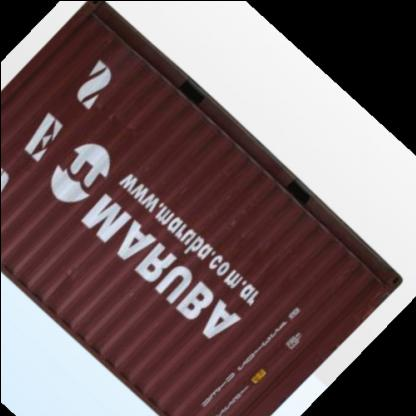Damage: (214, 206, 266, 262), (82, 96, 141, 136), (57, 260, 92, 284)
